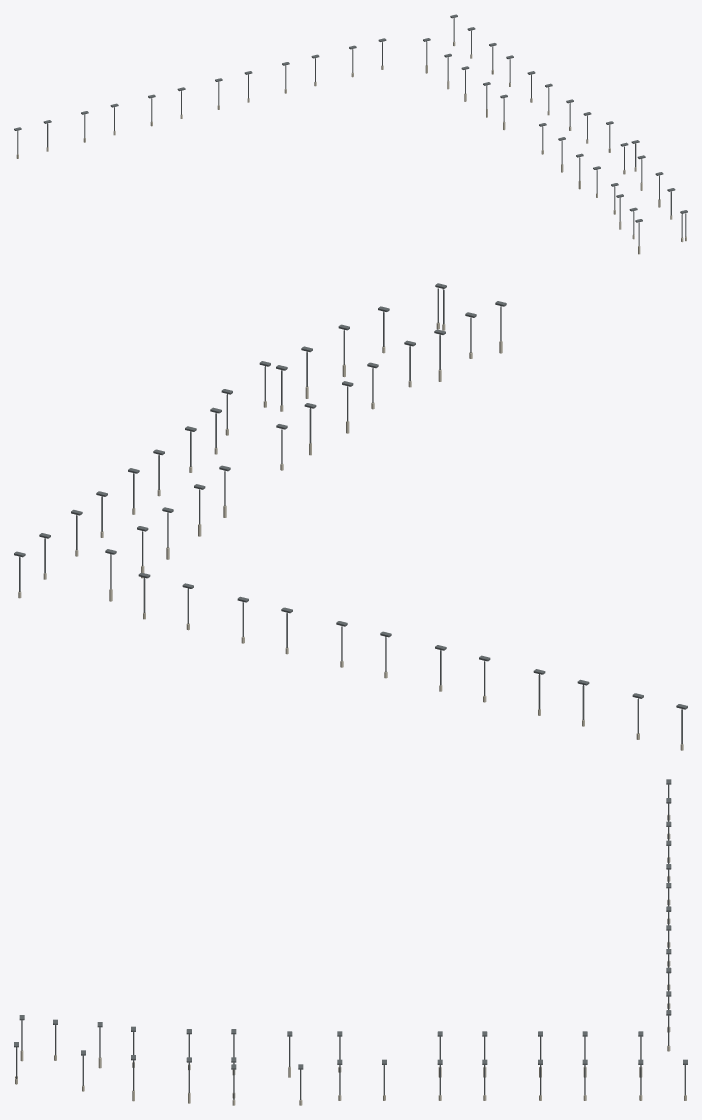
The picture shows the model from 3 angles, top to bottom: view 1: azimuth 30°, elevation 25°; view 2: azimuth 150°, elevation 25°; view 3: azimuth 270°, elevation 25°; orthographic projection. The views are drawn at different scales.
Parts seen in each view (by area): view 1: buildings_s_-11_-3_Dark_Metal, buildings_s_-11_-3_Warm_Limestone; view 2: buildings_s_-11_-3_Dark_Metal, buildings_s_-11_-3_Warm_Limestone; view 3: buildings_s_-11_-3_Dark_Metal, buildings_s_-11_-3_Warm_Limestone.
Boxes of the visible parts, box(x1,y1,x2,y2) form: buildings_s_-11_-3_Dark_Metal: box(14, 14, 687, 246); buildings_s_-11_-3_Warm_Limestone: box(16, 42, 686, 254); buildings_s_-11_-3_Dark_Metal: box(14, 283, 687, 744); buildings_s_-11_-3_Warm_Limestone: box(18, 322, 683, 750); buildings_s_-11_-3_Dark_Metal: box(14, 779, 687, 1100); buildings_s_-11_-3_Warm_Limestone: box(15, 814, 686, 1105).
Bounding box in the file's own units: 123 × 8.74 × 121.
